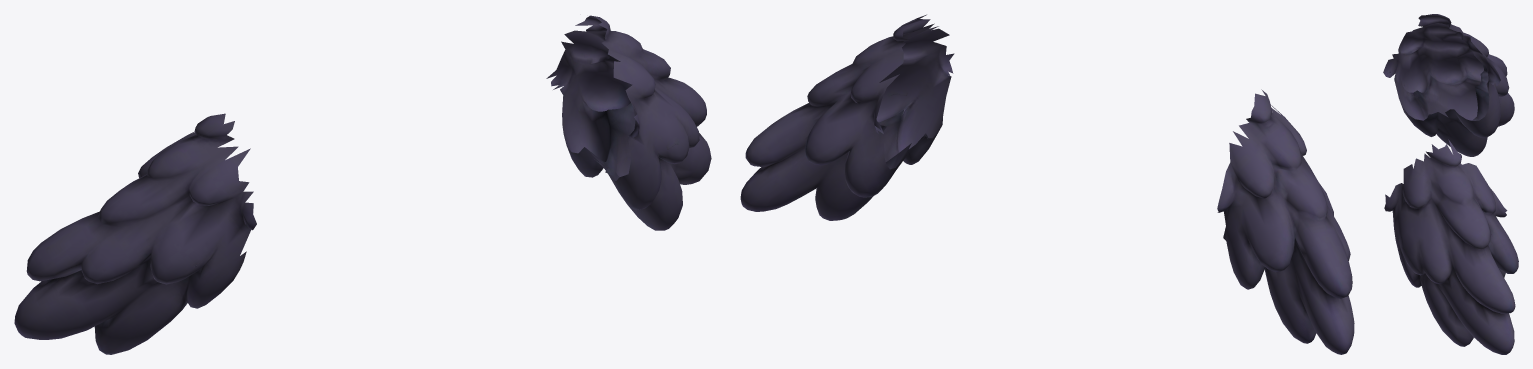
File: sumi_reveal.glb
3 views of the same model, side by side, from view 1: azimuth 30°, elevation 25°; view 2: azimuth 150°, elevation 25°; view 3: azimuth 270°, elevation 25° (orthographic). The views are drawn at different scales.
Parts seen in each view (by area): view 1: sumi_reveal; view 2: sumi_reveal; view 3: sumi_reveal.
Part boxes in pixels (x1,y1,x2,y2): sumi_reveal: (14,15,711,354); sumi_reveal: (740,14,1354,354); sumi_reveal: (1383,14,1518,354).
Bounding box in the file's own units: 0.9 × 0.304 × 0.2152.
1 material, 1 textured.
